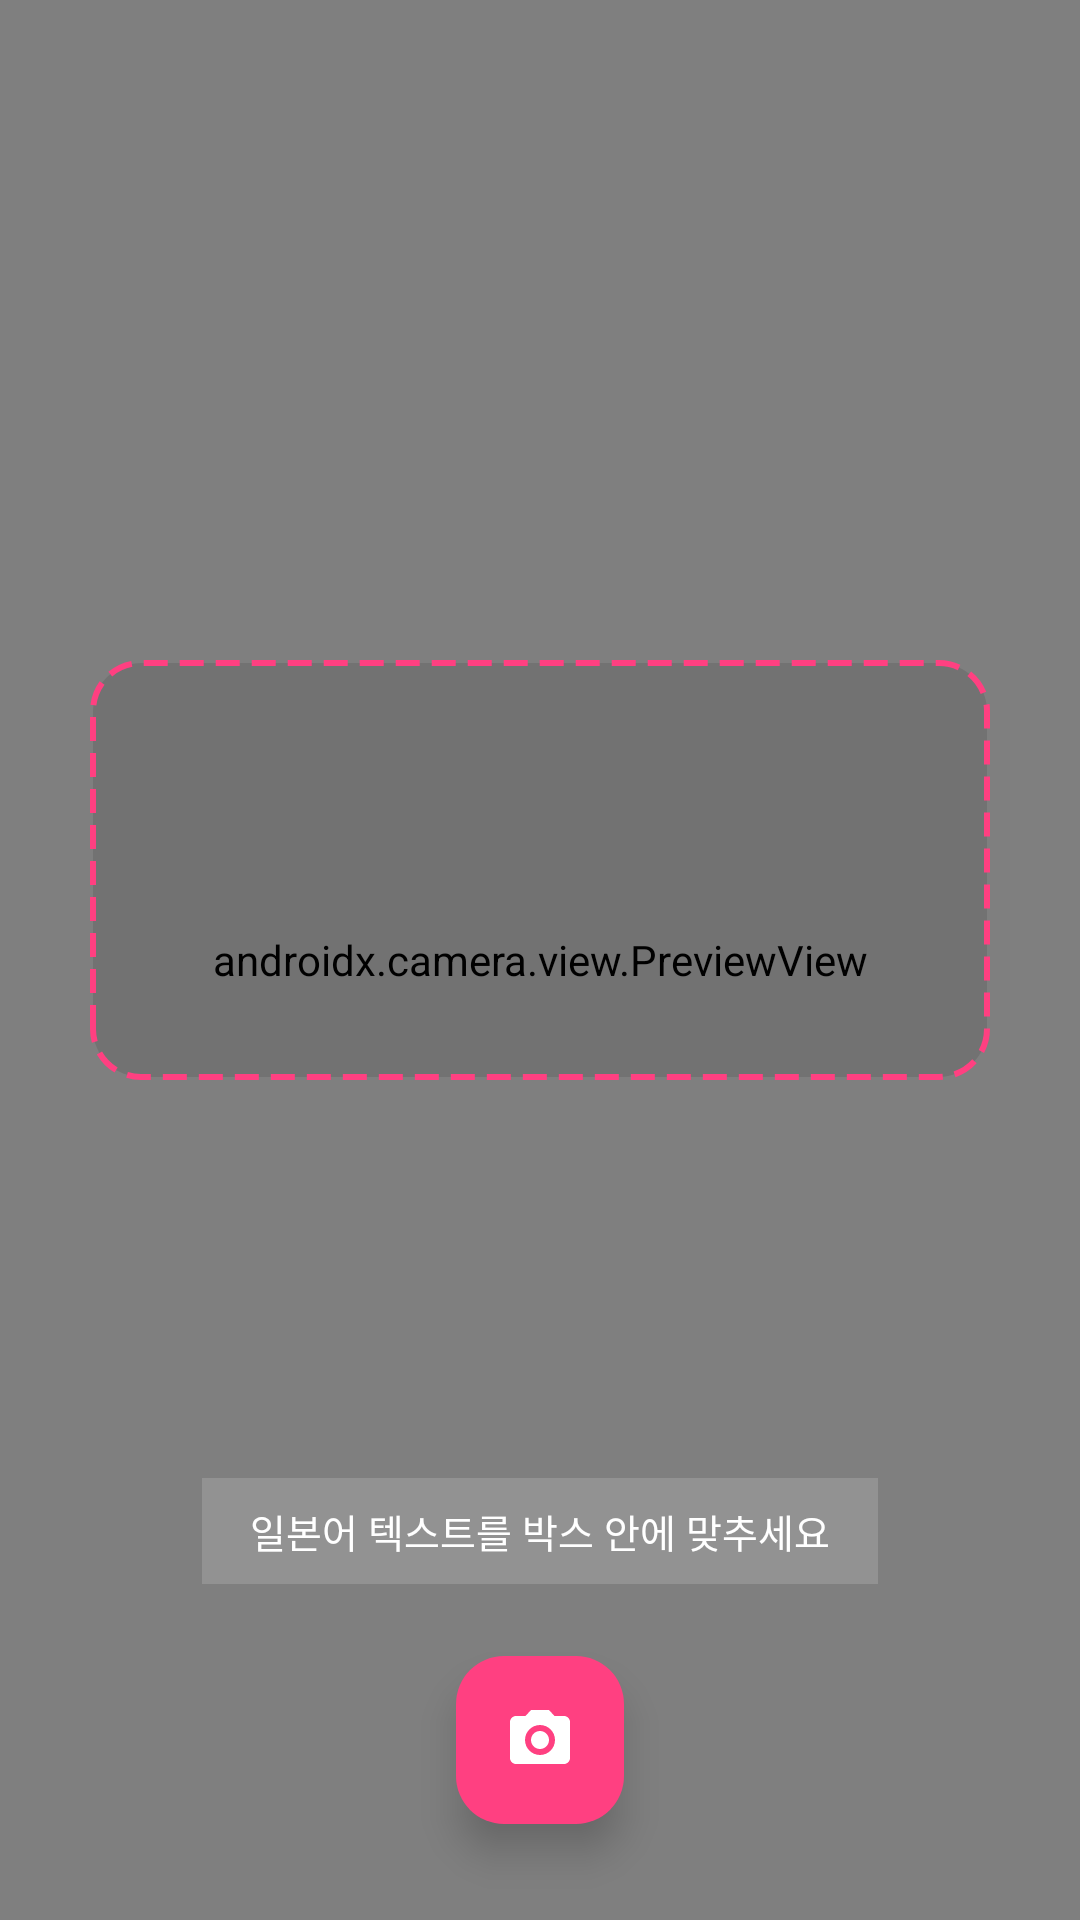

Icon click points for this 1080×1920 phone screenshot, format point (x, y):
Capture OCR: point (540, 1740)
